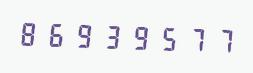eight: (17, 16, 43, 50)
five: (152, 20, 178, 54)
nine: (125, 19, 151, 53), (71, 18, 97, 51)
seven: (179, 21, 205, 55), (206, 22, 232, 56)
six: (44, 17, 70, 51)
three: (98, 19, 124, 52)
